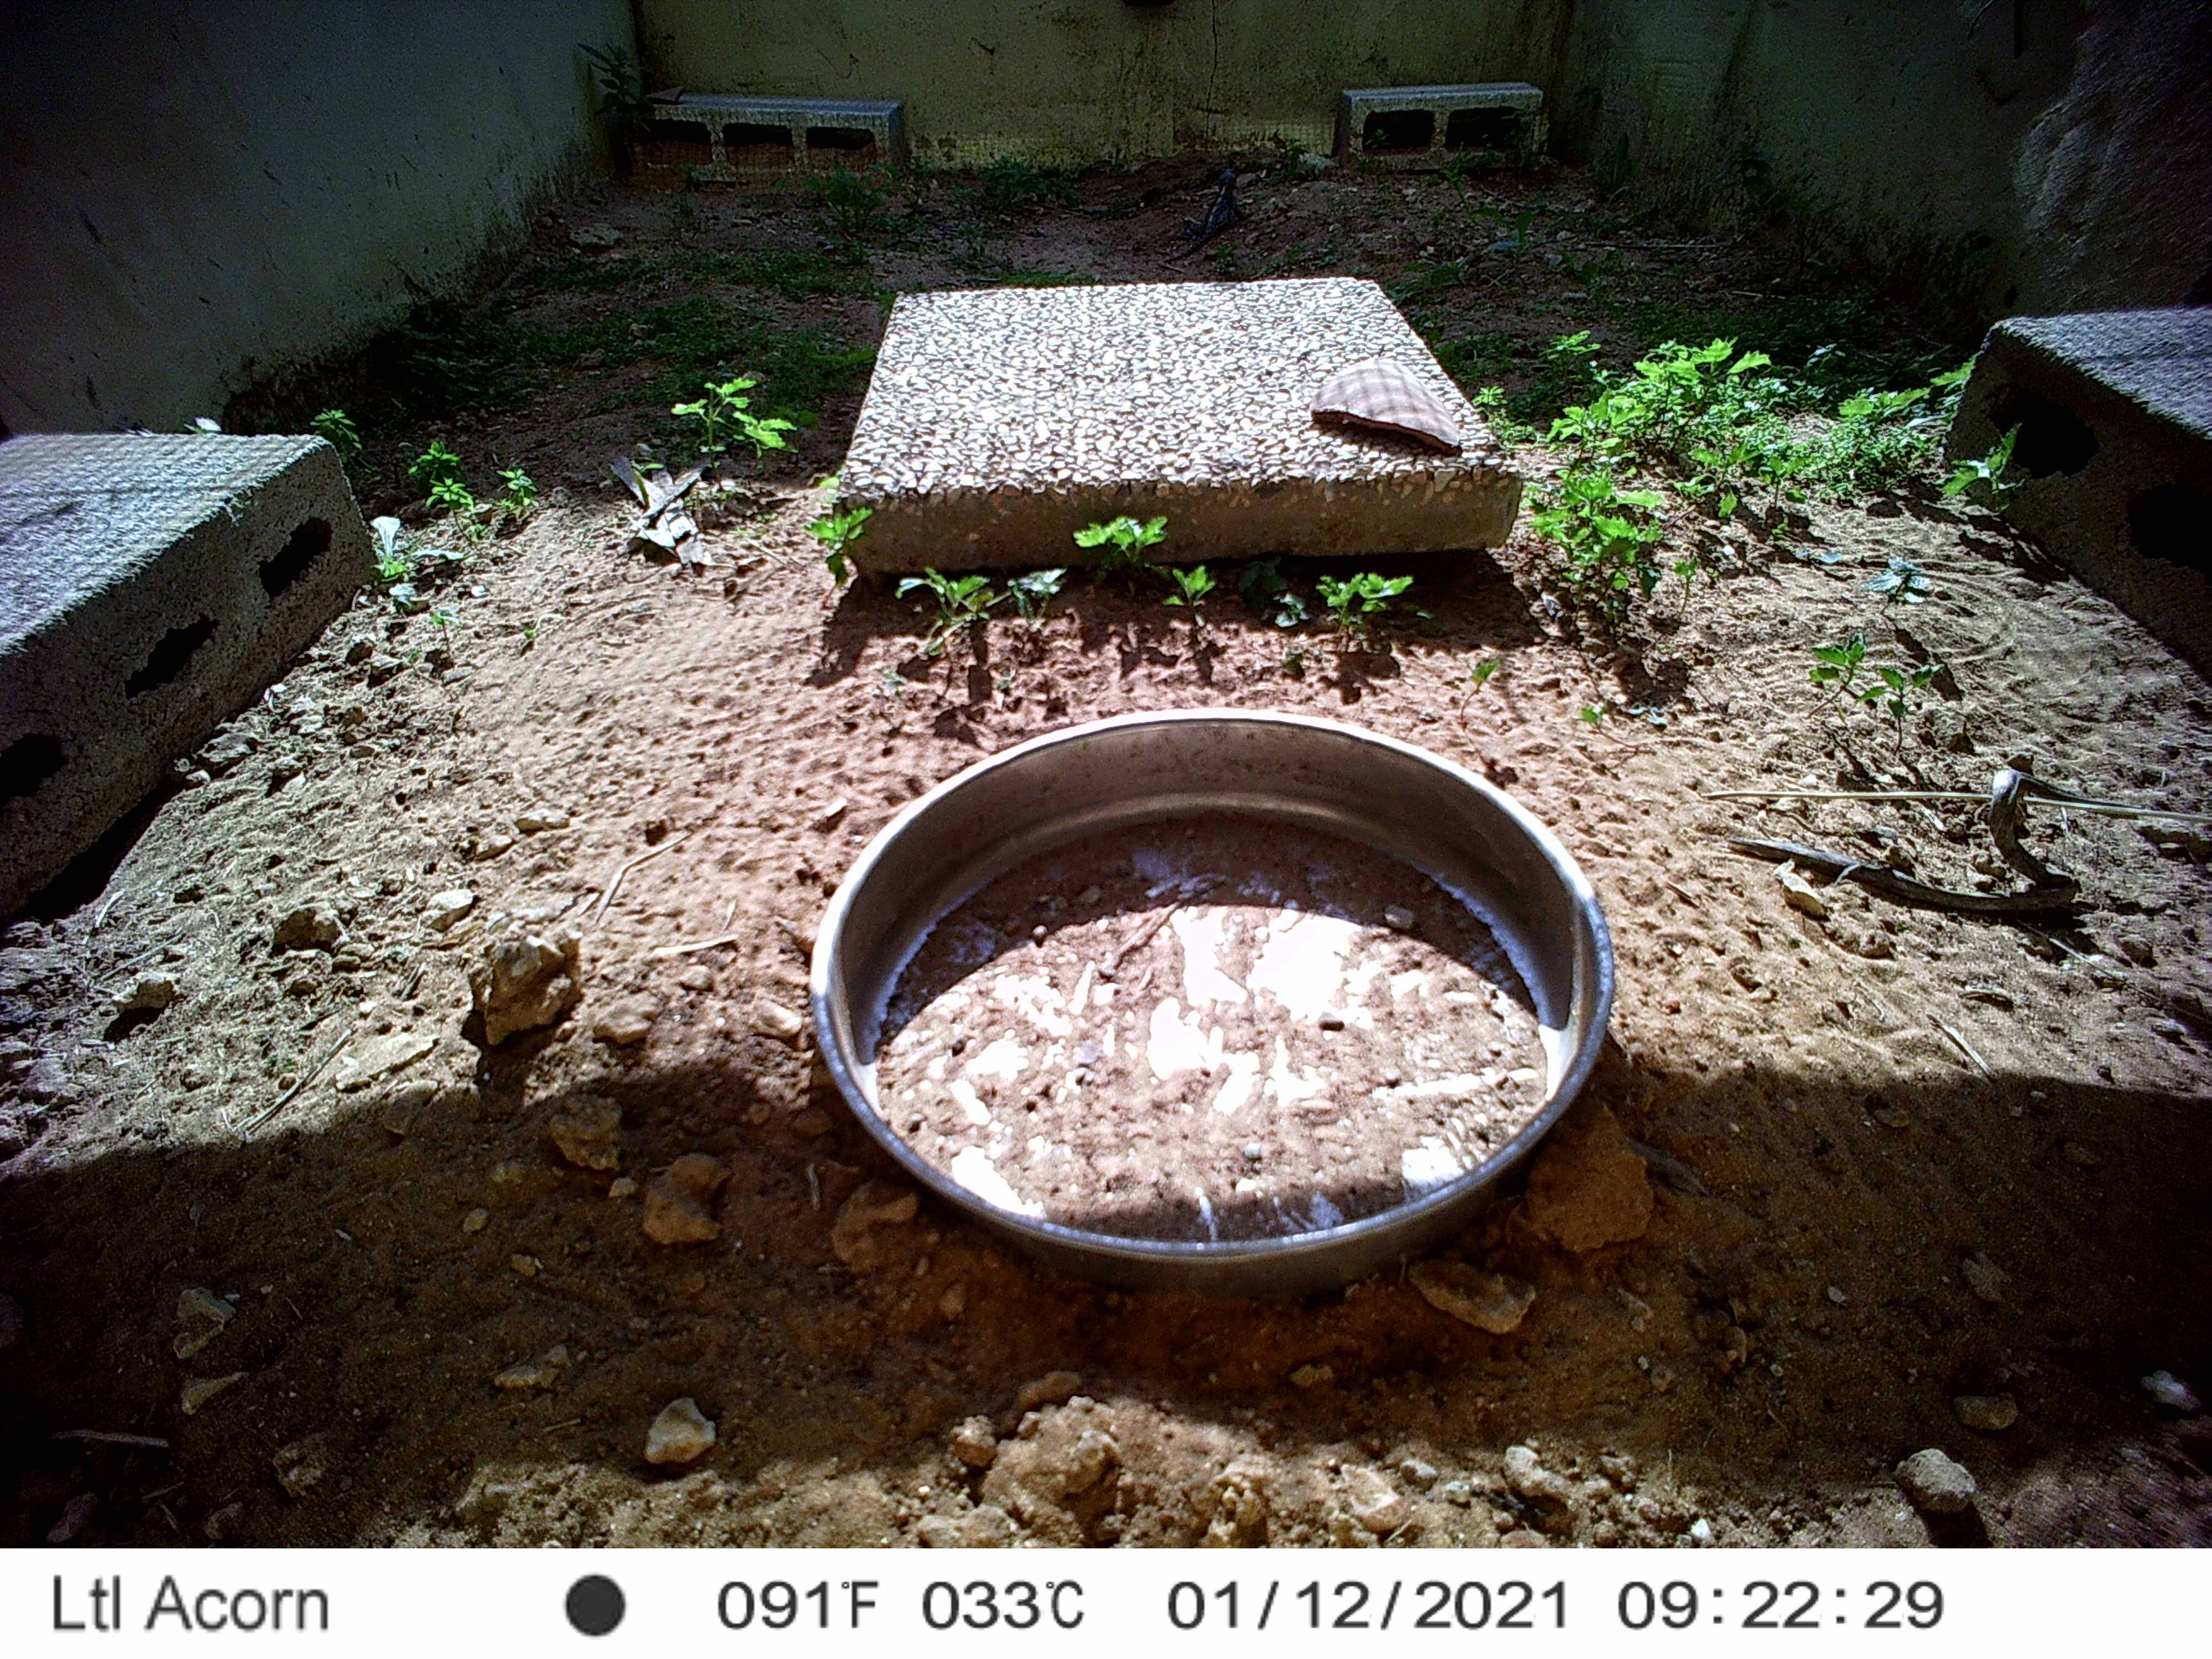lizard: (1158, 160, 1245, 263)
